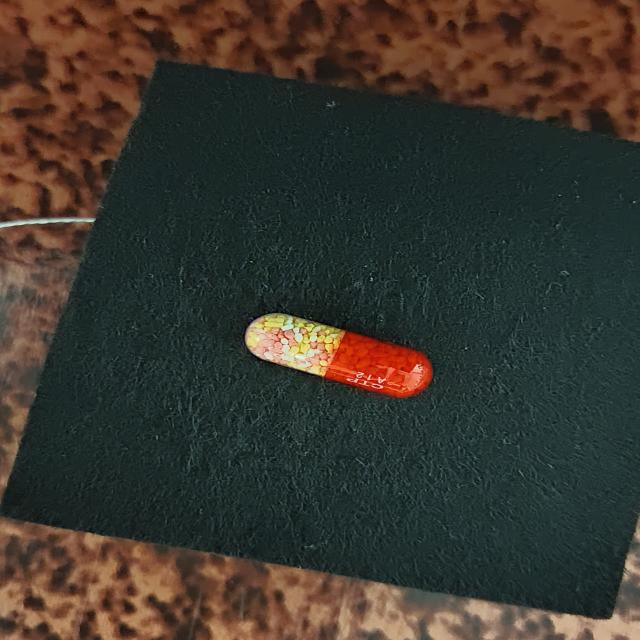Intact Capsule: (245, 313, 433, 398)
